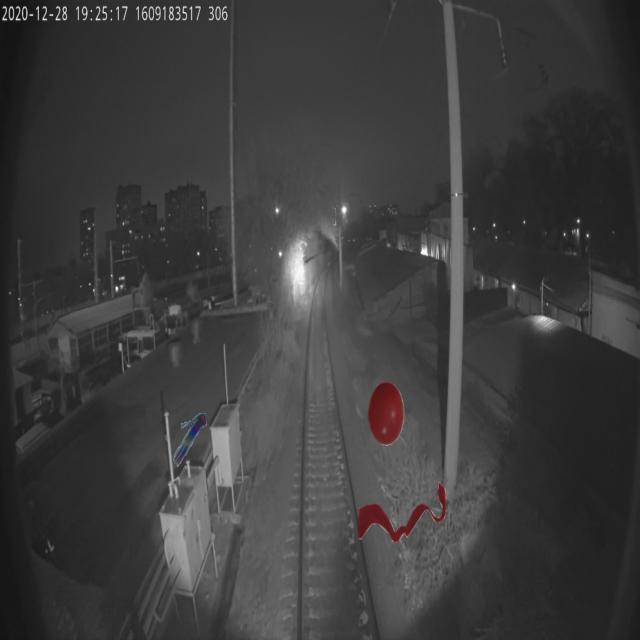balloon: (368, 382, 404, 446)
floating object: (358, 480, 448, 544), (172, 409, 208, 473)
